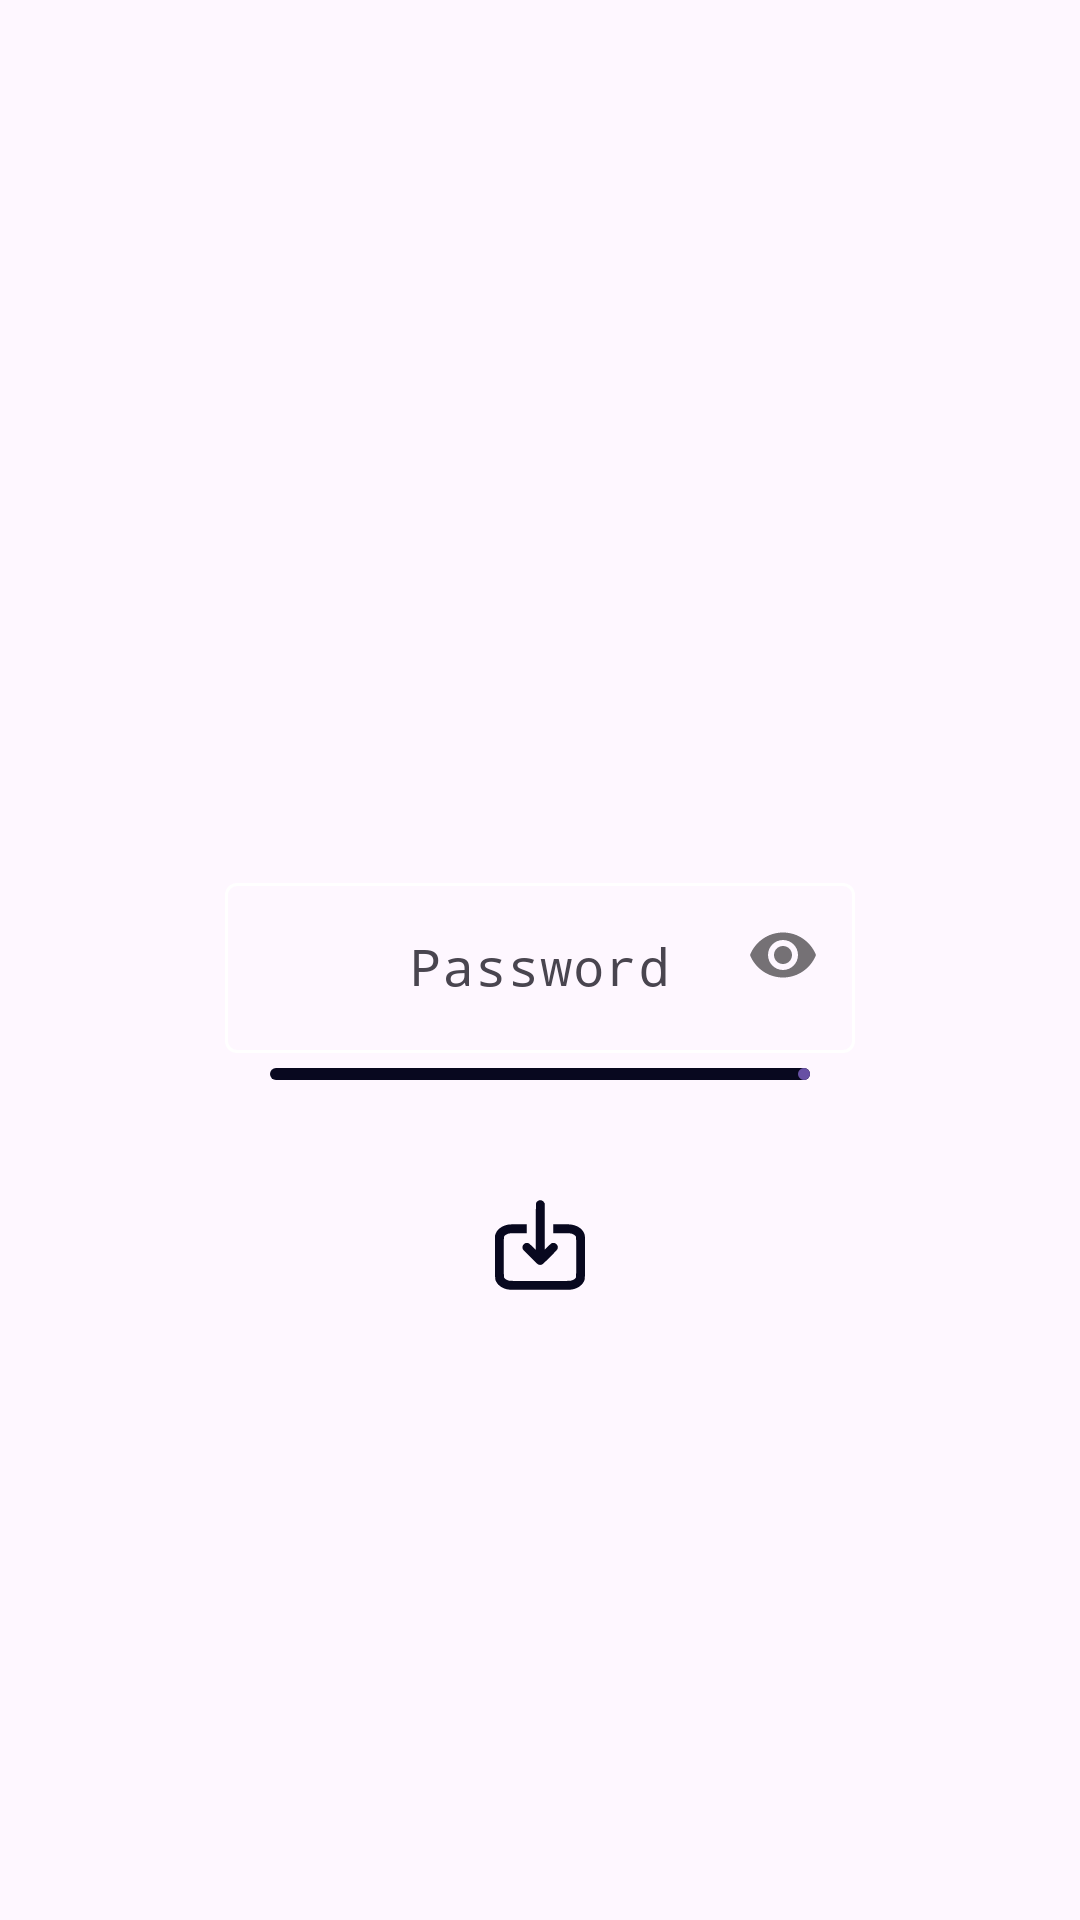

Named icons in this screenshot (1080px×1920px) and their bounding boxes, (x1, y1, x2, y2):
resource import: (495, 1200, 585, 1290)
